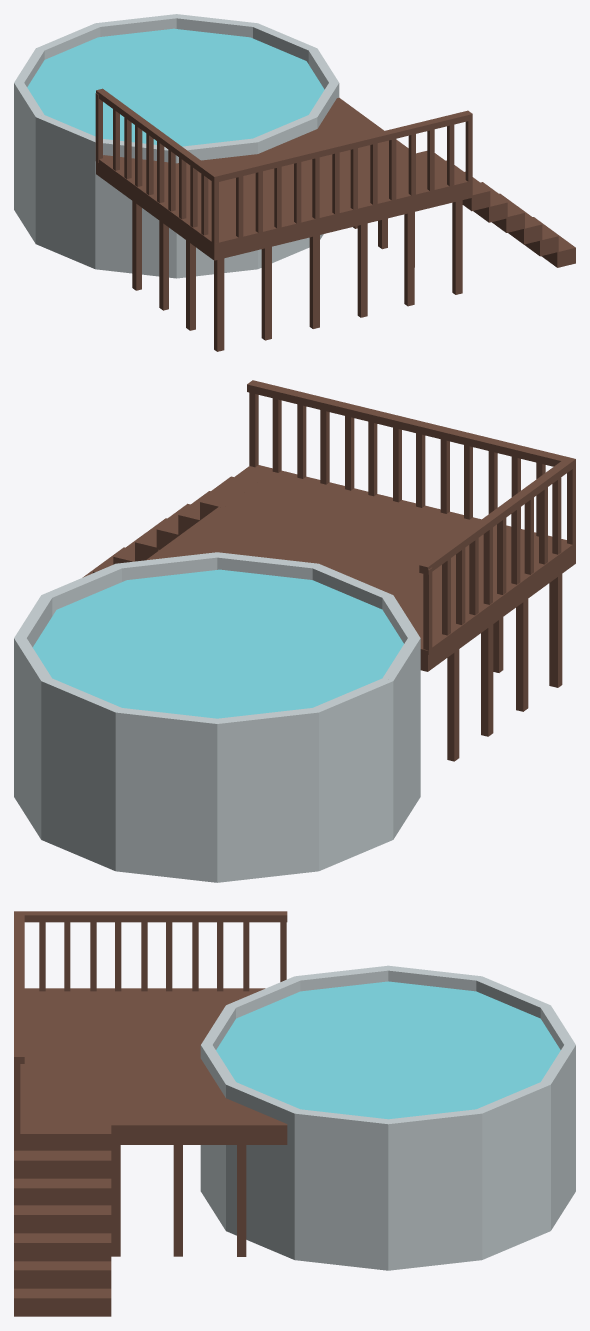
File: AboveGroundPool.glb
The picture shows the model from 3 angles, top to bottom: view 1: azimuth 30°, elevation 25°; view 2: azimuth 150°, elevation 25°; view 3: azimuth 270°, elevation 25°; orthographic projection. The views are drawn at different scales.
Visible parts, largest first — view 1: group1792106970, group744572399, group2083928091, group384423605, group1547618798, group159245246, group821262863, group2123192079, group1725194986, group2061981351, group803940862, group1033315275 (+32 smaller); view 2: group1792106970, group744572399, group2083928091, group384423605, group1547618798, group2061981351, group1033315275, group1634295885, group22139958, group456494125, group138664171, group914327288 (+20 smaller); view 3: group1792106970, group744572399, group2083928091, group1547618798, group932982275, group120552648, group1757804522, group1296326403, group1860434659, group1119336007, group456494125, group384423605 (+3 smaller).
Part boxes in pixels (x1,y1,x2,y2): group1792106970: (14,14,339,278); group744572399: (27,28,324,146); group2083928091: (96,97,457,260); group384423605: (209,110,469,182); group1547618798: (96,88,221,182); group159245246: (452,200,462,294); group821262863: (357,223,367,317); group2123192079: (404,212,414,306); group1725194986: (309,235,319,328); group2061981351: (214,258,224,351); group803940862: (261,246,271,340); group1033315275: (186,240,195,330); group1792106970: (14,552,420,882); group744572399: (33,569,403,718); group2083928091: (146,470,575,671); group384423605: (247,381,566,466); group1547618798: (419,457,575,574); group2061981351: (549,574,562,687); group1033315275: (516,599,528,711); group1634295885: (481,624,493,736); group22139958: (447,649,459,761); group456494125: (200,465,272,520); group138664171: (423,567,432,654); group914327288: (249,380,258,467); group1792106970: (200,965,575,1270); group744572399: (216,981,560,1119); group2083928091: (20,988,287,1144); group1547618798: (14,911,287,922); group932982275: (14,1150,111,1178); group120552648: (14,1205,111,1233); group1757804522: (14,1233,111,1261); group1296326403: (14,1288,111,1316); group1860434659: (14,1261,111,1288); group1119336007: (14,1178,111,1205); group456494125: (14,1123,111,1150); group384423605: (14,915,24,1063).
Bounding box in the file's own units: 3.26 × 1.5 × 3.64.
